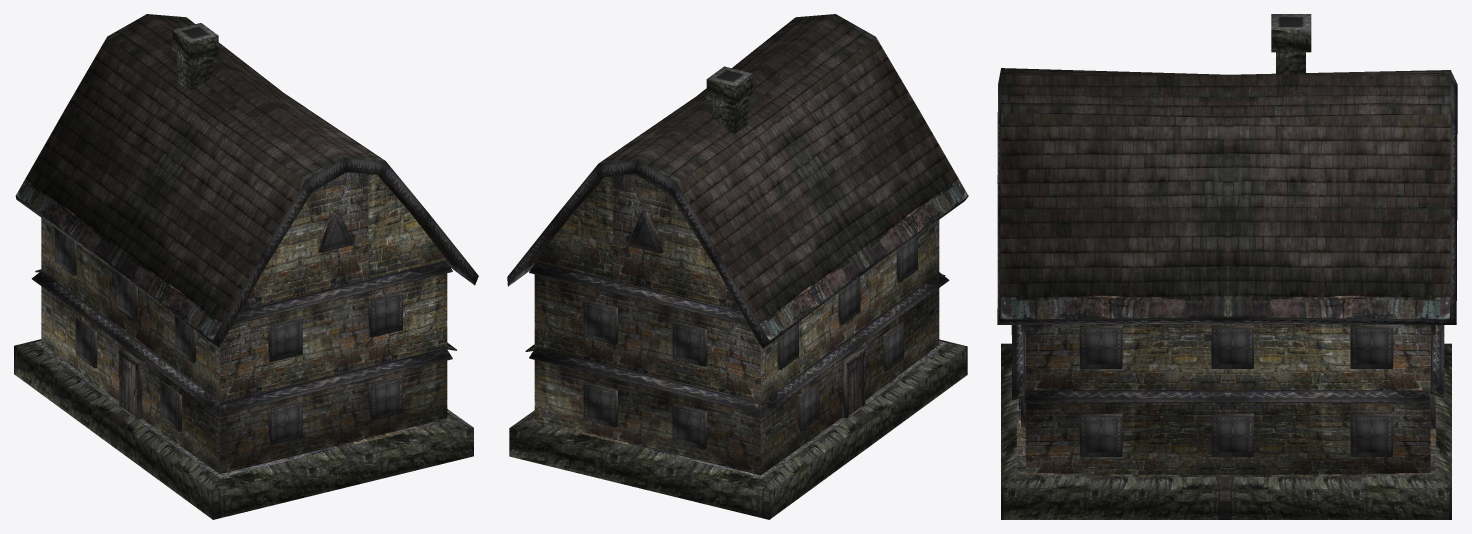
File: house6-01.obj
3 views of the same model, side by side, from view 1: azimuth 30°, elevation 25°; view 2: azimuth 150°, elevation 25°; view 3: azimuth 270°, elevation 25° (orthographic). The views are drawn at different scales.
Size of the model in its own units: 10.13 by 13.32 by 13.38.
1 material, 1 textured.
